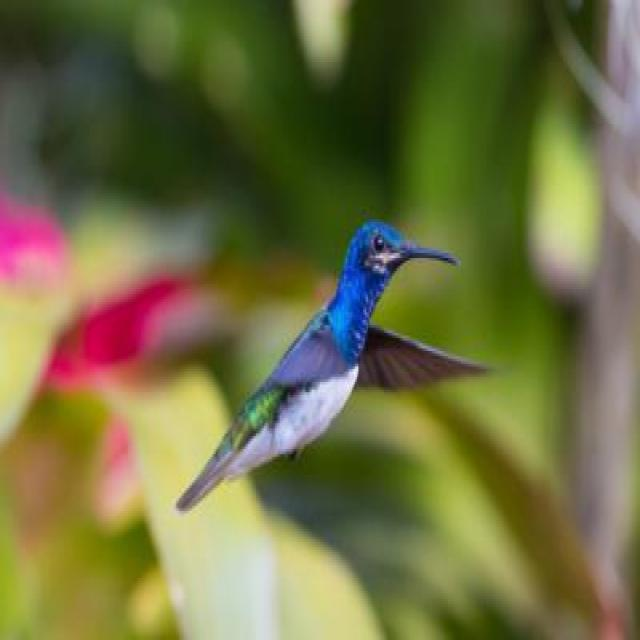birds: (172, 200, 506, 521)
